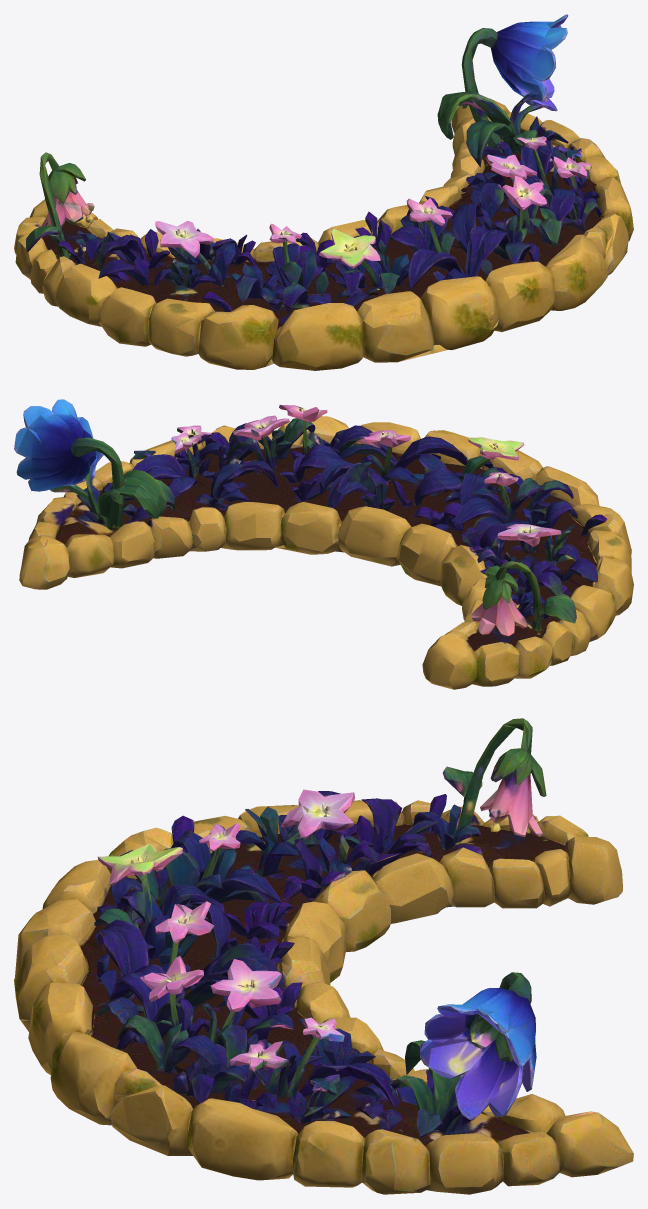
Rendered from moonlit-glow.glb.
3 renders of one model, top to bottom at view 1: azimuth 30°, elevation 25°; view 2: azimuth 150°, elevation 25°; view 3: azimuth 270°, elevation 25°, orthographic. The views are drawn at different scales.
Parts seen in each view (by area): view 1: output_unwrapped; view 2: output_unwrapped; view 3: output_unwrapped.
Part boxes in pixels (box(x1,y1,x2,y2)): output_unwrapped: box(14, 14, 633, 370); output_unwrapped: box(14, 399, 633, 689); output_unwrapped: box(14, 718, 633, 1194).
Size of the model in its own units: 1.9 by 0.4554 by 1.38.
1 material, 1 textured.
